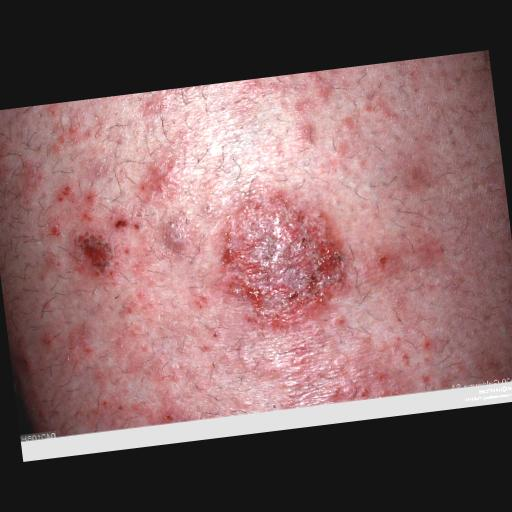Skin_Lesion: (208, 188, 350, 337), (64, 215, 122, 285), (110, 209, 140, 240)
